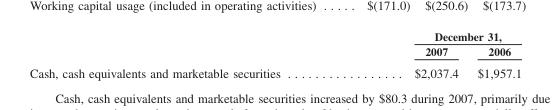table: (29, 29, 520, 79)
table column: (29, 29, 346, 79), (346, 29, 467, 79), (467, 29, 520, 79)
table column header: (29, 29, 520, 61)
table row: (29, 43, 520, 61), (29, 61, 520, 79), (29, 29, 520, 43)
table spanning cell: (346, 29, 520, 43)
